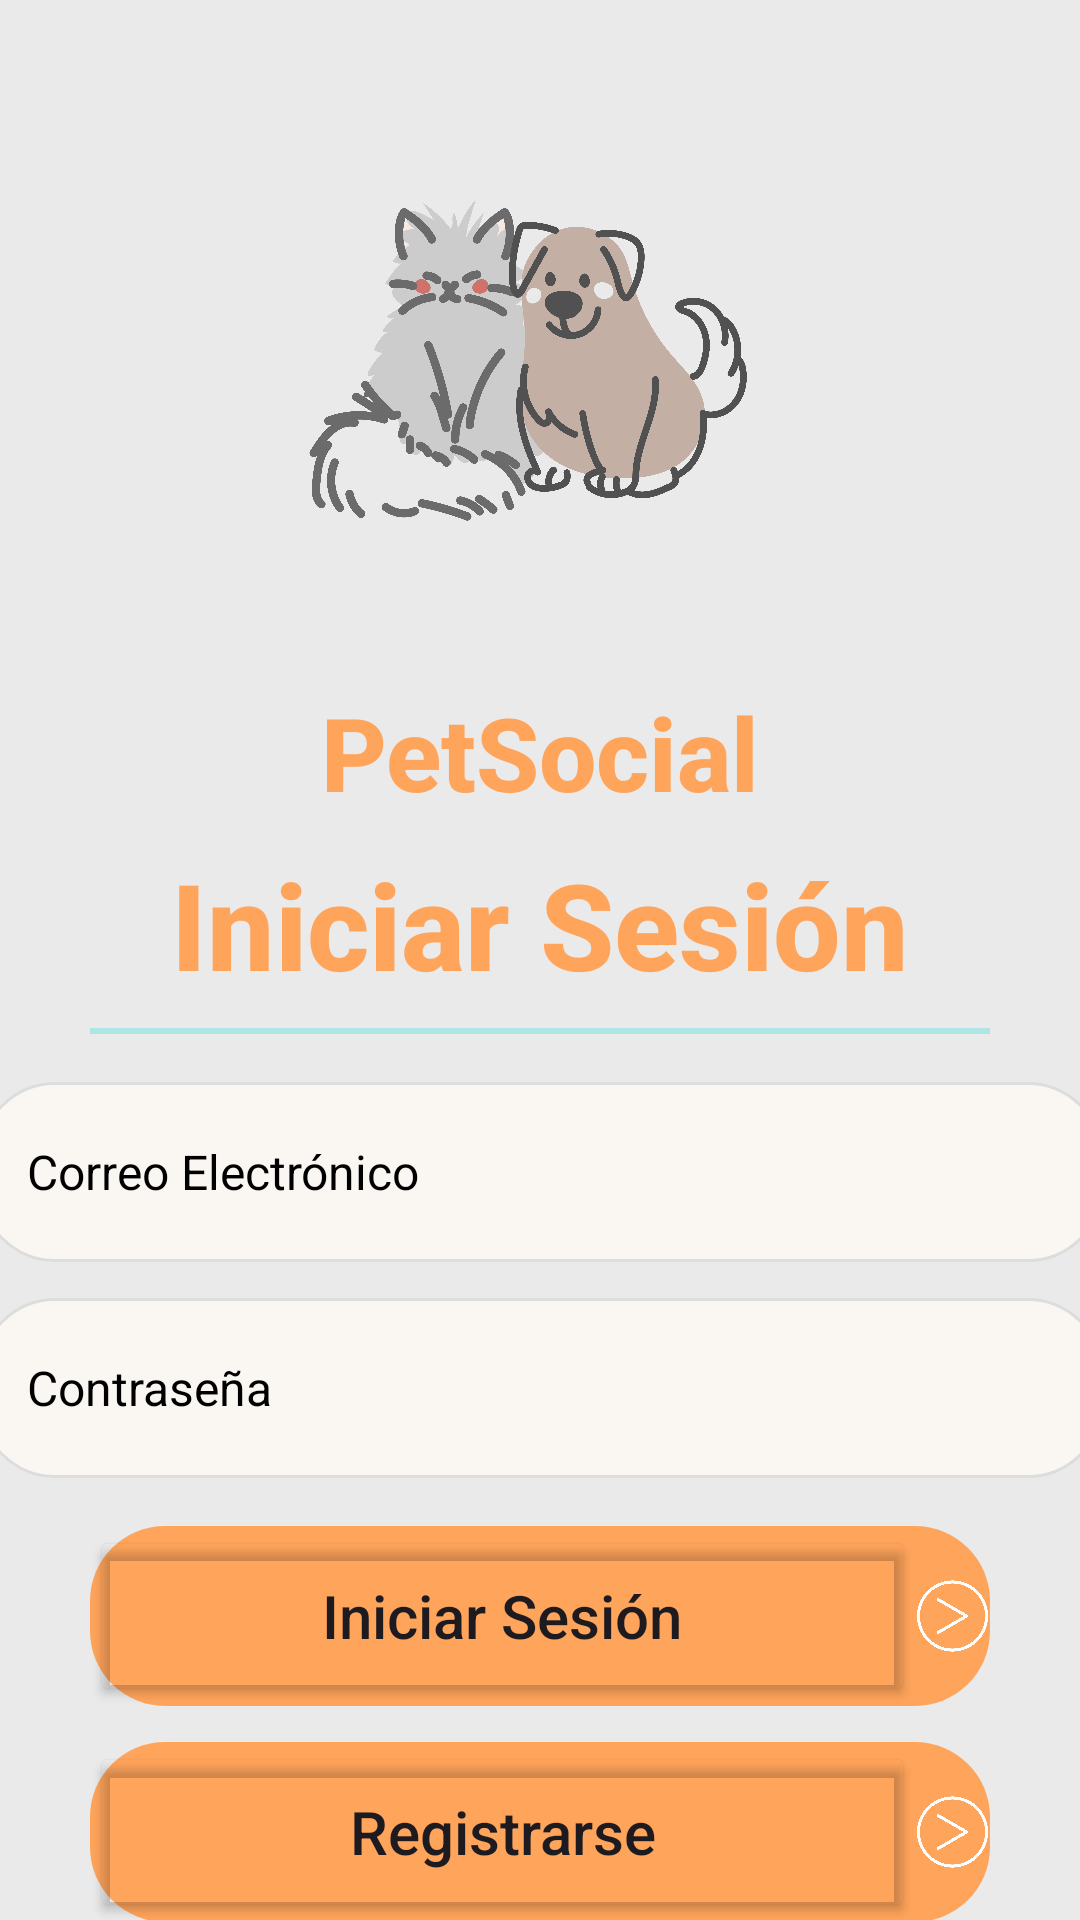

Named icons in this screenshot (1080*1920) and their centers, point (x, y):
flechalogin: point (952, 1616), point (952, 1831)
